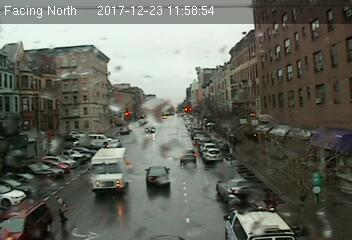car: (215, 177, 253, 205), (145, 165, 169, 186), (177, 147, 198, 165), (204, 147, 221, 162), (145, 125, 156, 133)
police: (224, 207, 298, 240)
truck: (88, 147, 130, 191)
